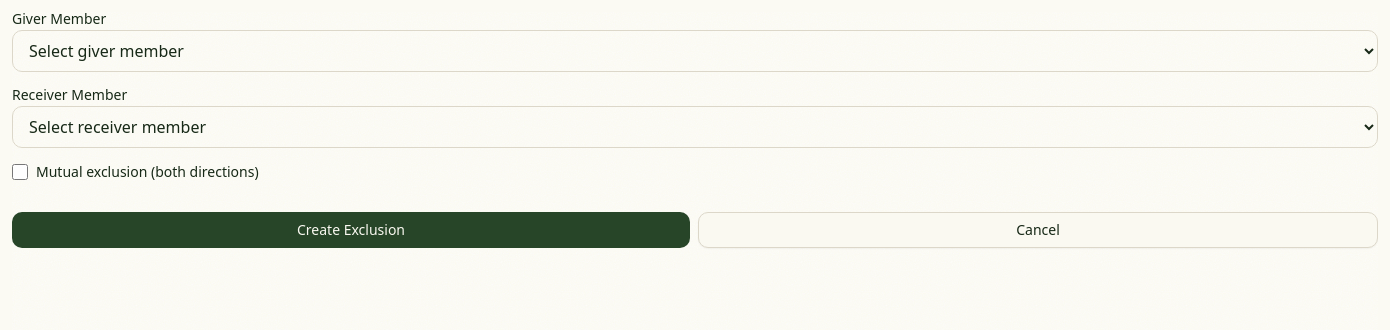
it: ExclusionForm › prevents self-exclusions
The width and height of the screenshot is (1390, 330).
Select "Alice" in the dropdown labelled "Giver Member" at [695, 51], box [12, 30, 1378, 72]
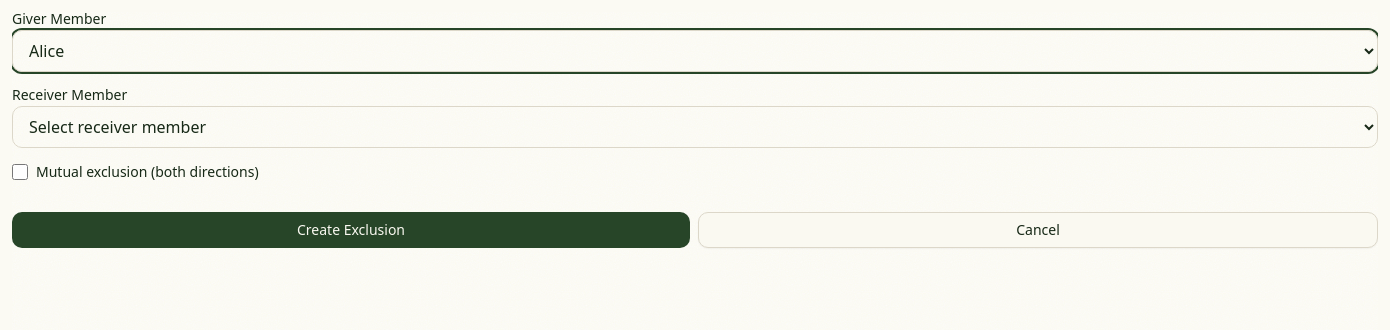
Select "Alice" in the dropdown labelled "Receiver Member" at [695, 127], box [12, 106, 1378, 148]
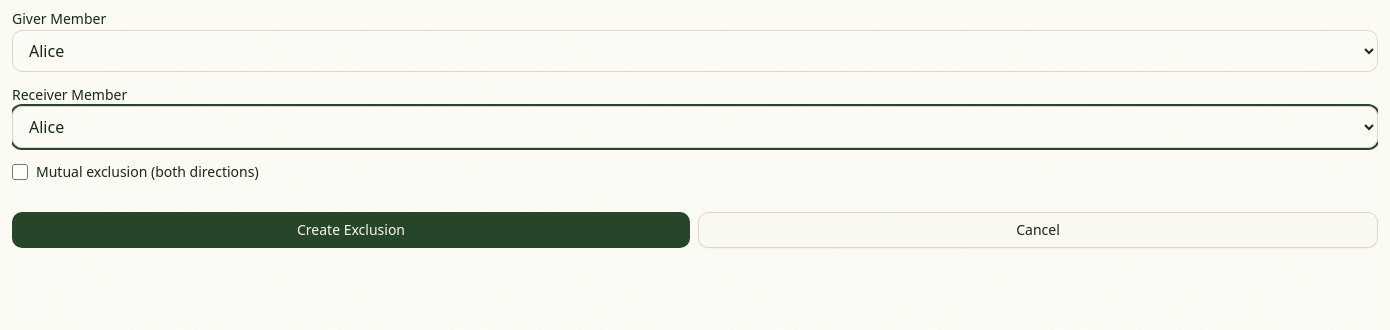
Click the button "Create Exclusion" at [351, 230], box [12, 212, 690, 248]
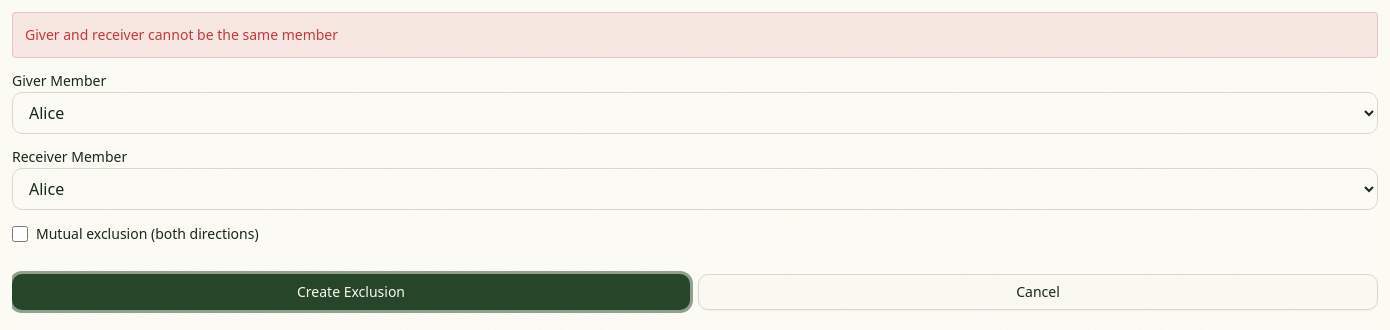
Expected: the text "Giver and receiver cannot be the same member" is shown, [12, 12, 1378, 58]
